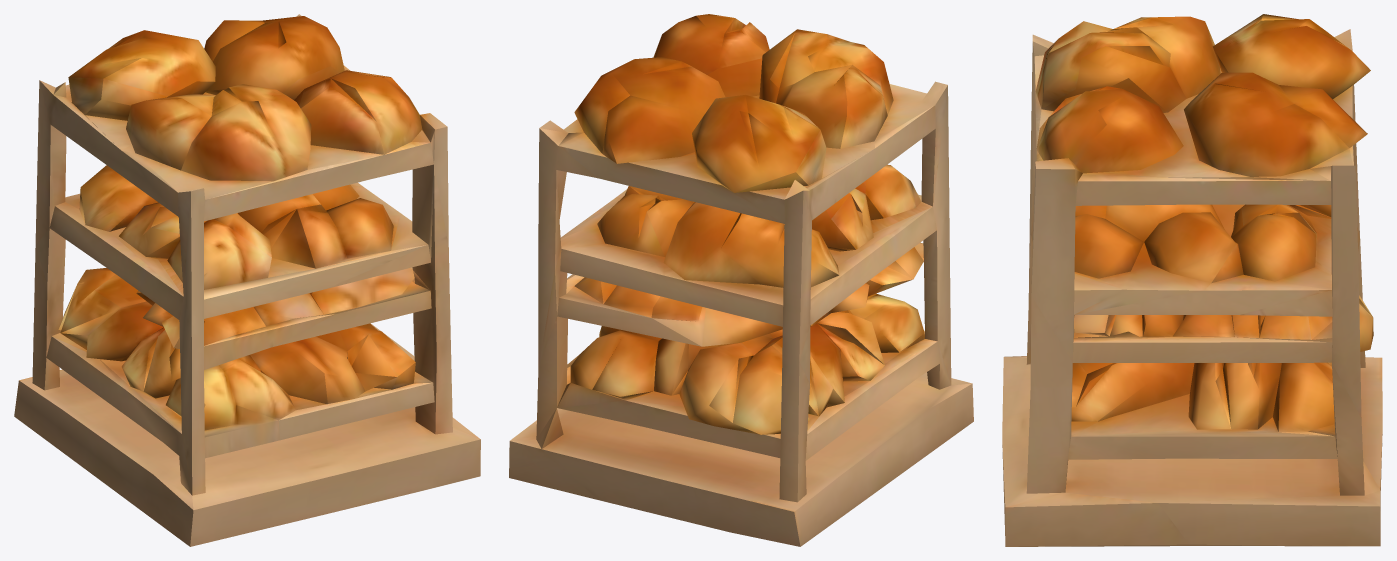
File: bakeryStand.glb
The picture shows the model from 3 angles, left to right: view 1: azimuth 30°, elevation 25°; view 2: azimuth 150°, elevation 25°; view 3: azimuth 270°, elevation 25°; orthographic projection. The views are drawn at different scales.
Parts seen in each view (by area): view 1: model; view 2: model; view 3: model.
Part boxes in pixels (box(x1,y1,x2,y2)): model: box(14, 14, 480, 546); model: box(509, 14, 973, 546); model: box(1002, 14, 1382, 546).
Size of the model in its own units: 1.48 by 1.89 by 1.56.
1 material, 1 textured.
